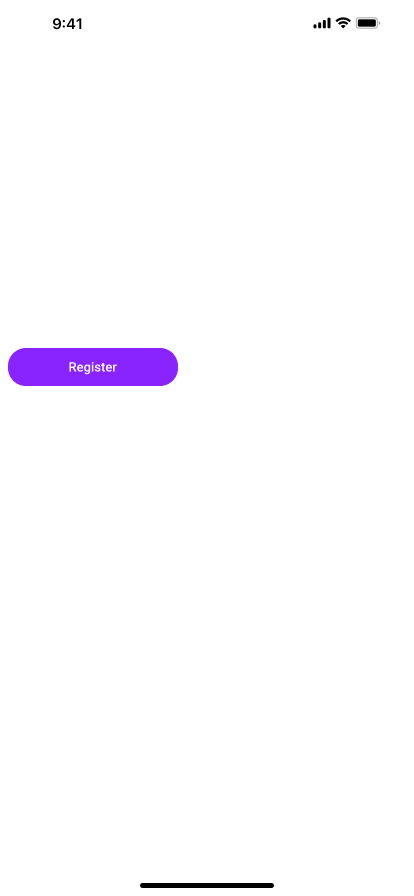Buttons: (8, 348, 178, 386)
Home Indicator: (0, 862, 414, 896)
Status Bar: (0, 0, 414, 44)
